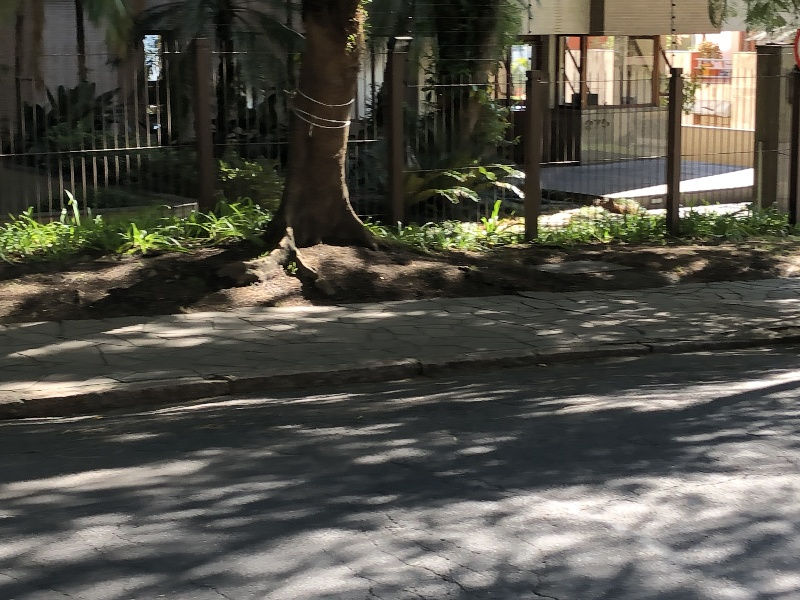v11: (1, 304, 790, 459)
